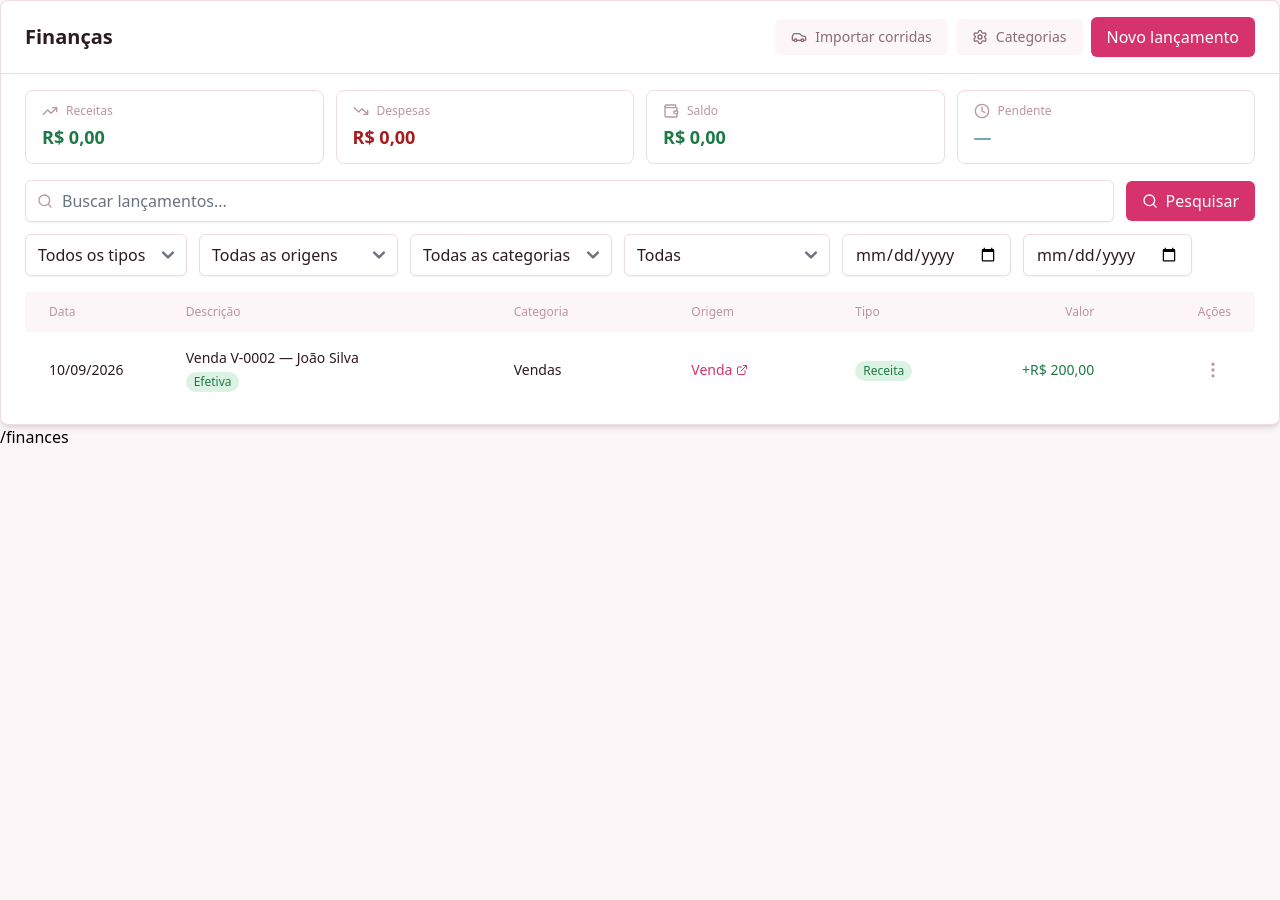
Test: Finances deep links › details from the table action menu › opens the details modal for a linked sale row
Expected: the text "Venda V-0002 — João Silva" is shown, [186,348,359,367]
Click the button named "Ações do lançamento" at (1213, 370), box [1195,352,1231,388]
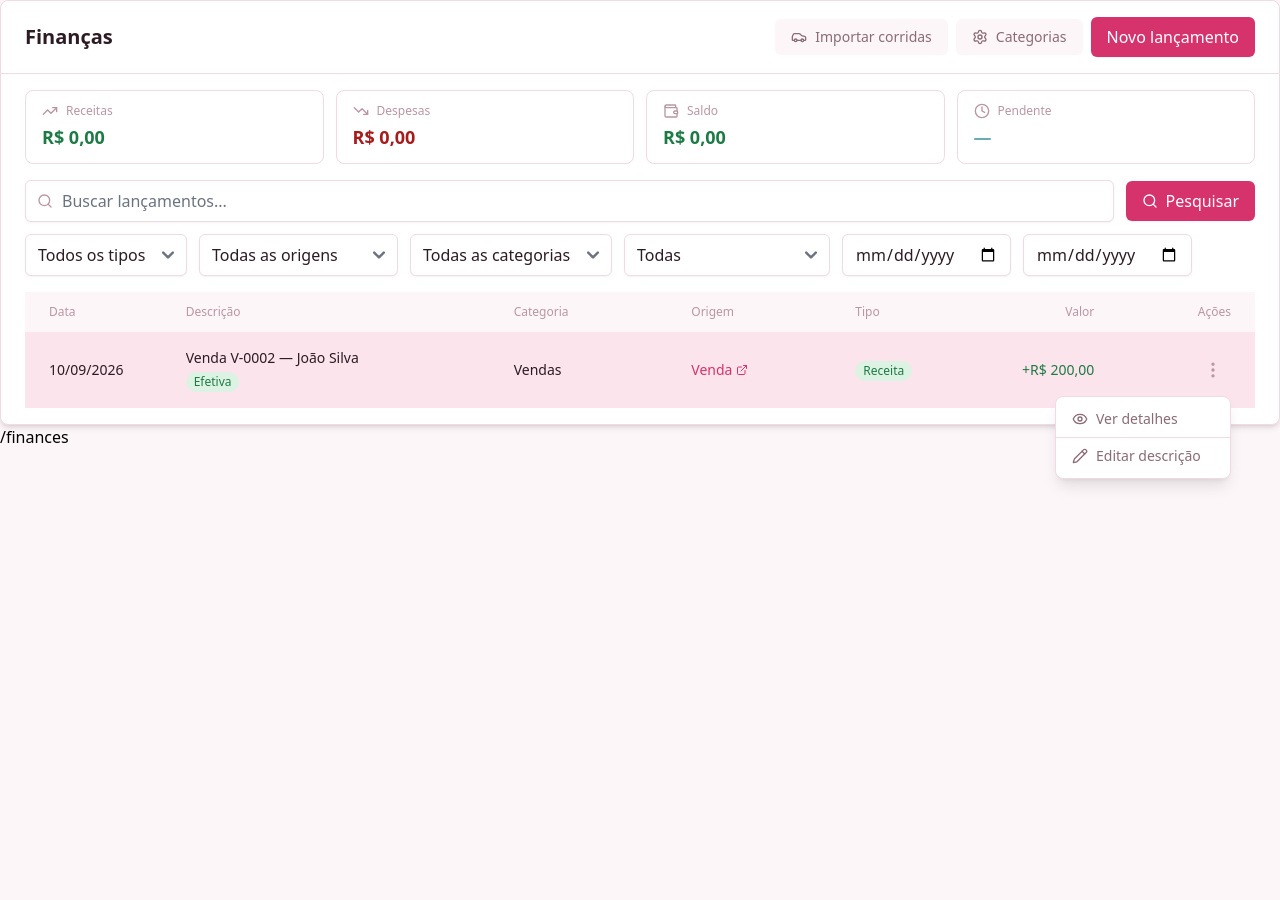
Click the menu item "Ver detalhes" at (1143, 419), box [1056,401,1230,437]
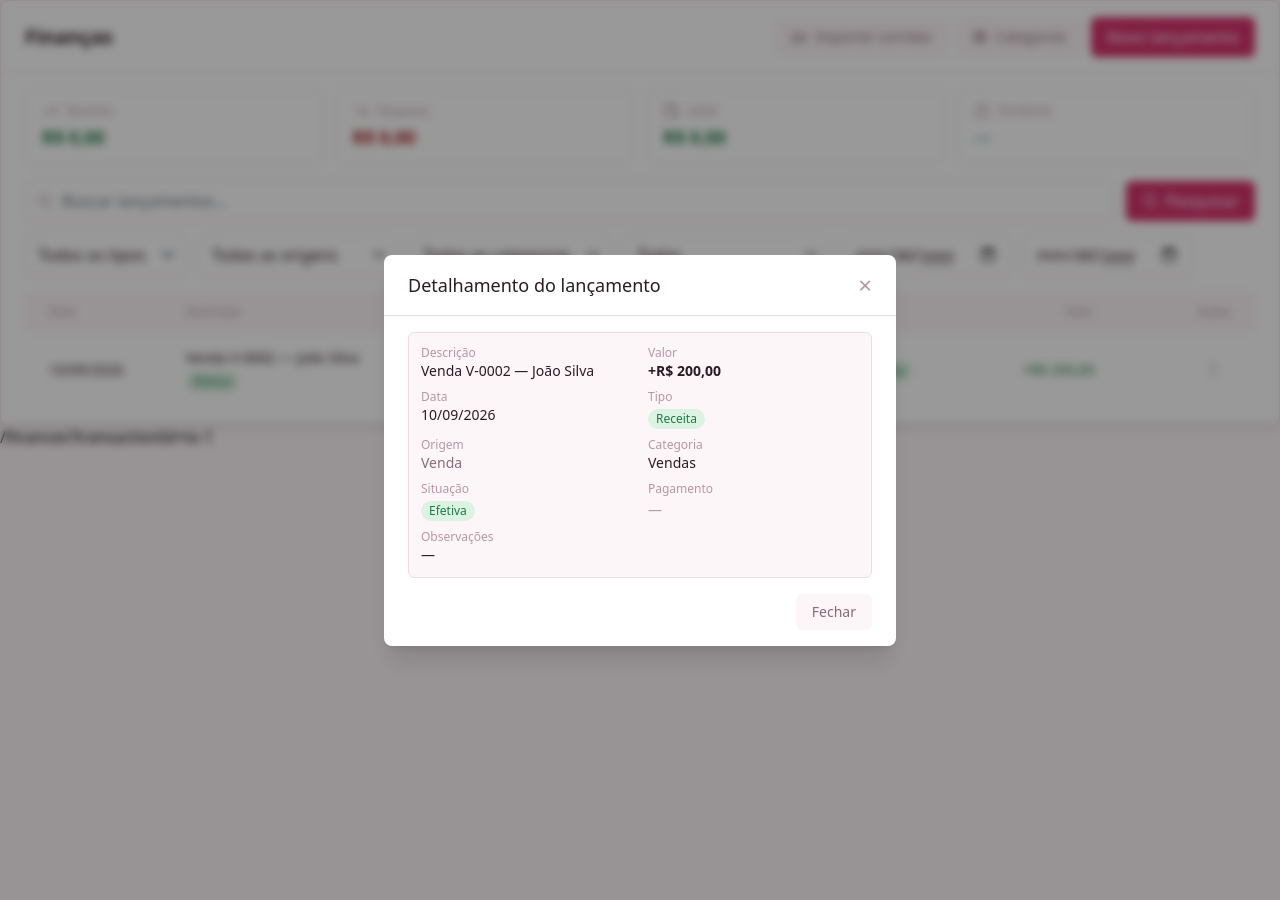
Expected: the element with test id "transaction-details-modal" is shown
Expected: the heading "Detalhamento do lançamento" is shown, [408,270,661,298]
Expected: the text with test id "transaction-details-description" reads "Venda V-0002 — João Silva", [421,360,594,380]
